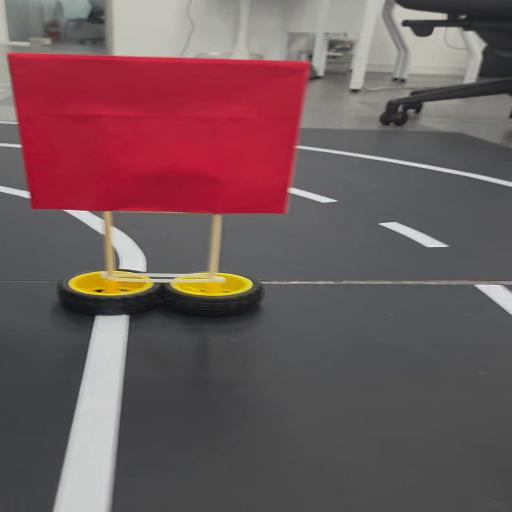Sign_A: (6, 52, 312, 317)
